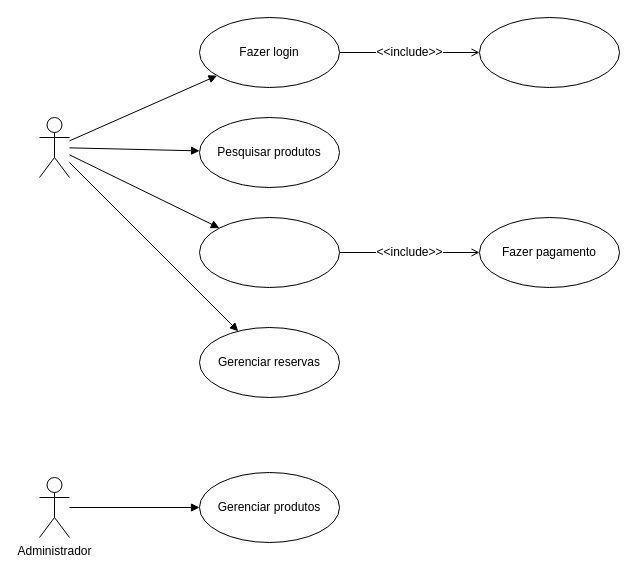
Some shapes in this 637 by 576 pixel diagram are drawn without their labels. Each missing label, with the centre of its shape:
Fazer signin: point (549, 52)
Gerenciar locações: point (269, 252)
Usuário: point (54, 147)
